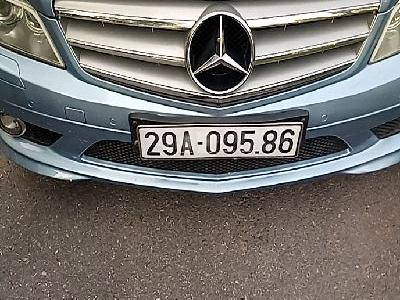car: (135, 122, 302, 161)
